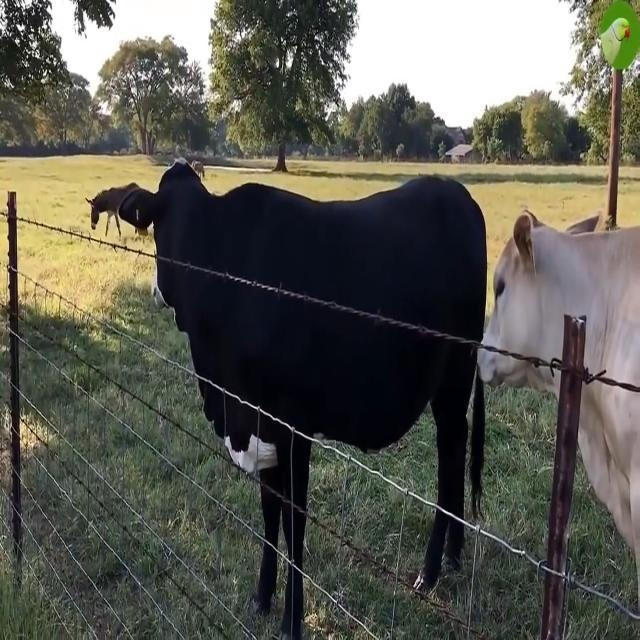cow: (158, 260, 485, 639), (120, 161, 486, 339), (484, 212, 640, 384), (579, 384, 640, 597), (415, 511, 464, 592), (479, 351, 558, 392), (86, 182, 139, 238)
